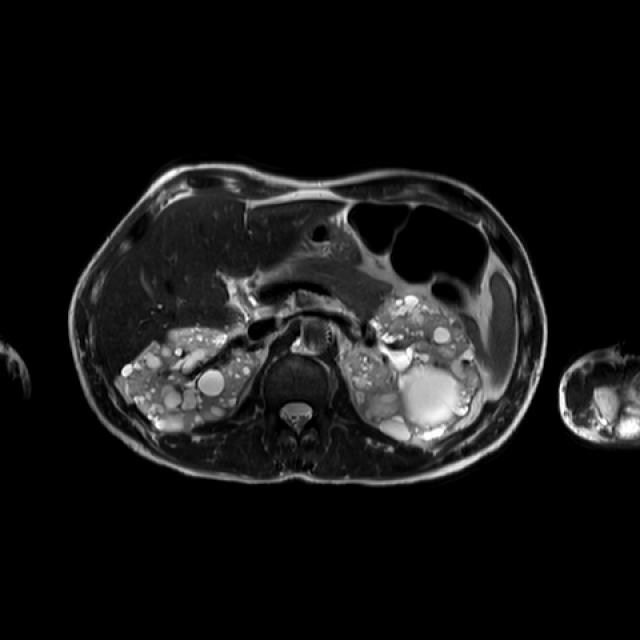sag: (125, 327, 256, 432)
sol: (340, 297, 479, 441)
